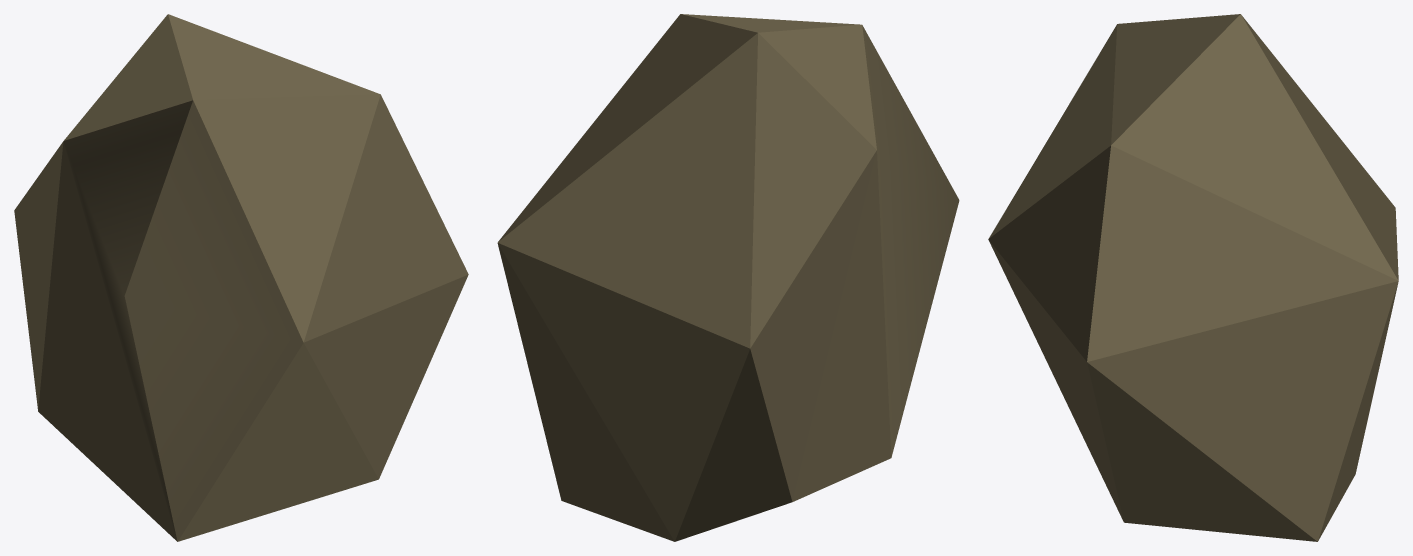
Rendered from SM_Env_Bush_Small_03.glb.
3 renders of one model, left to right at view 1: azimuth 30°, elevation 25°; view 2: azimuth 150°, elevation 25°; view 3: azimuth 270°, elevation 25°, orthographic. The views are drawn at different scales.
Parts seen in each view (by area): view 1: SM_Env_Bush_Small_03; view 2: SM_Env_Bush_Small_03; view 3: SM_Env_Bush_Small_03.
Part boxes in pixels (x1,y1,x2,y2): SM_Env_Bush_Small_03: (14, 14, 468, 541); SM_Env_Bush_Small_03: (497, 14, 959, 541); SM_Env_Bush_Small_03: (988, 14, 1398, 541).
Bounding box in the file's own units: 0.4486 × 0.5943 × 0.4858.
1 material, 1 textured.
